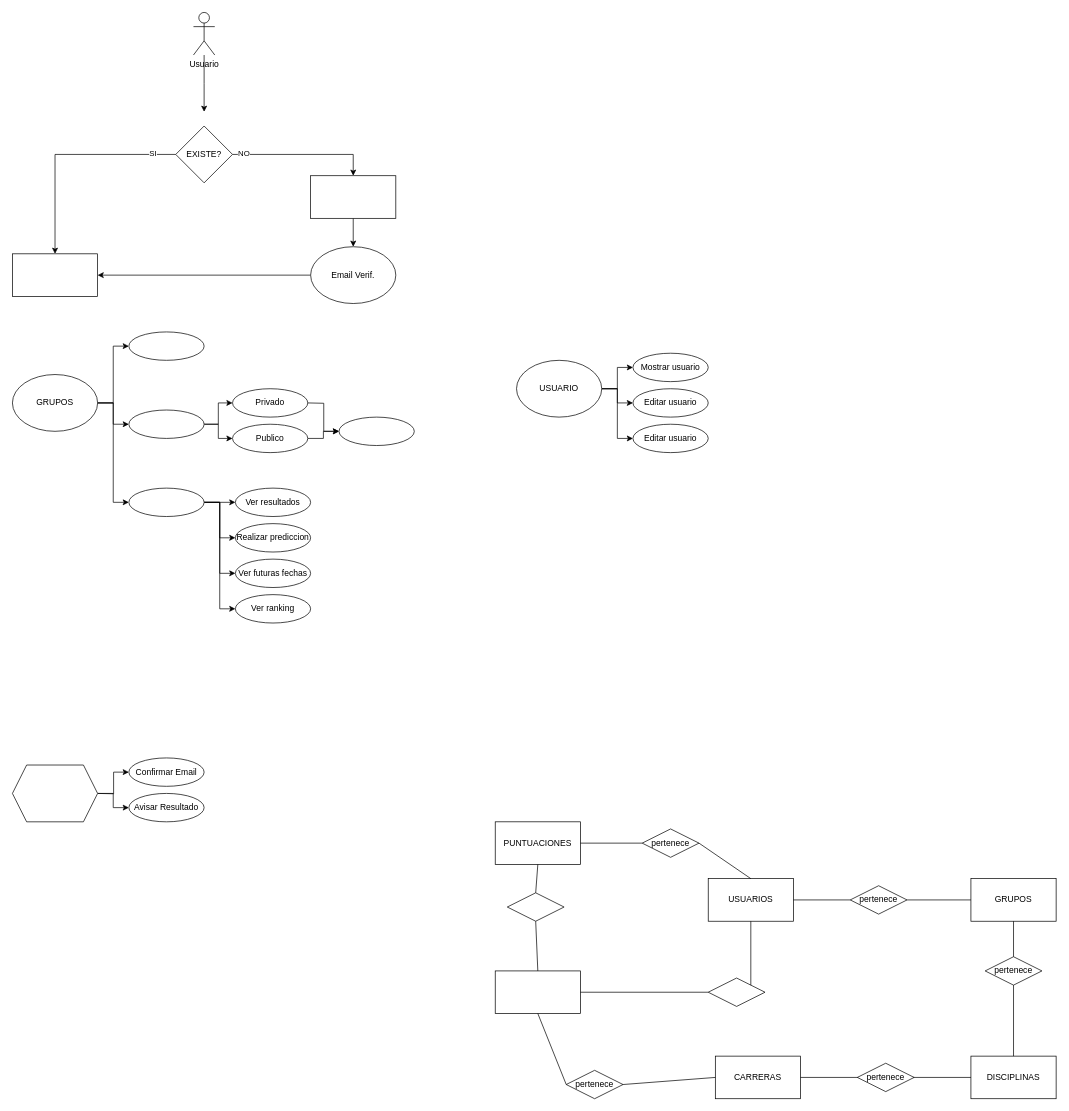
The diagram is 1069 pixels wide and 1111 high, and some of its shapes have lost their labels. The shapes that lost their labels are listed below. From the top down, each one's centre as x and y in pixels, then its label:
At pixel 353 196: "REGISTRO".
At pixel 55 274: "LOGIN".
At pixel 166 345: "Mostrar grupos".
At pixel 166 423: "Crear grupo".
At pixel 376 431: "Editar grupo".
At pixel 166 502: "Ingresar a grupo".
At pixel 55 793: "Email Service".
At pixel 535 906: "obtiene".
At pixel 537 992: "PREDICCIONES".
At pixel 736 991: "realiza".
